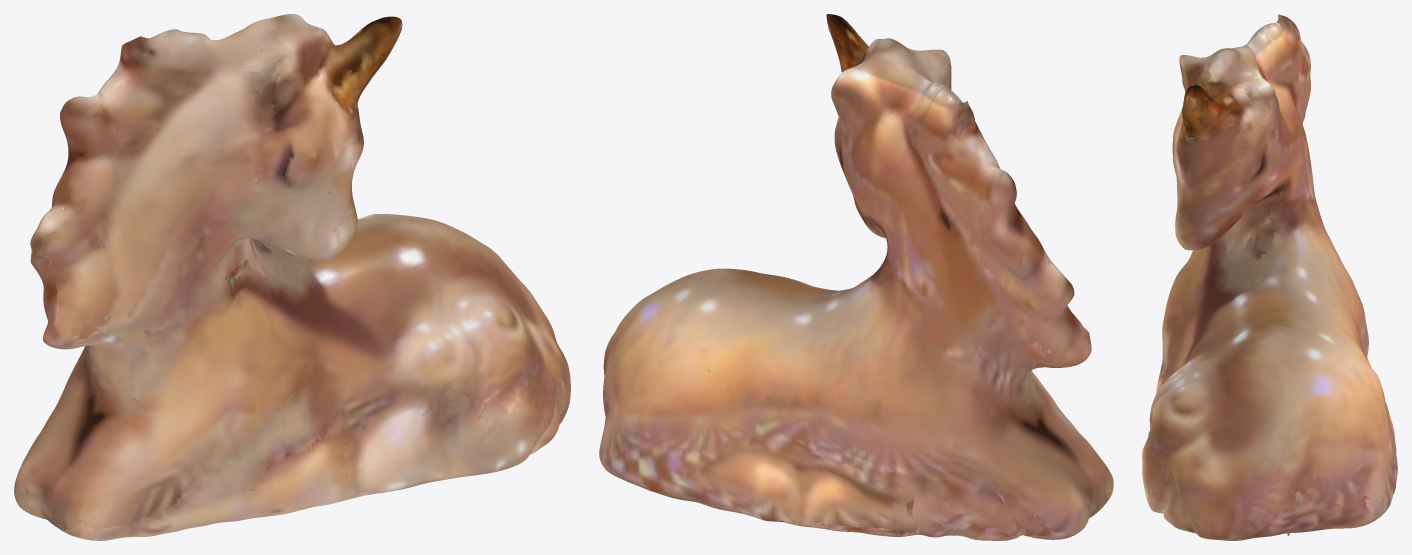
The model's file is Q_Unicorn.glb.
The picture shows the model from 3 angles, left to right: view 1: azimuth 30°, elevation 25°; view 2: azimuth 150°, elevation 25°; view 3: azimuth 270°, elevation 25°; orthographic projection. The views are drawn at different scales.
Parts seen in each view (by area): view 1: Body; view 2: Body; view 3: Body.
Part boxes in pixels (x1=…): Body: x1=14, y1=14, x2=570, y2=540; Body: x1=599, y1=14, x2=1113, y2=540; Body: x1=1142, y1=14, x2=1397, y2=540.
Size of the model in its own units: 0.5017 by 0.4239 by 0.2537.
1 material, 1 textured.
